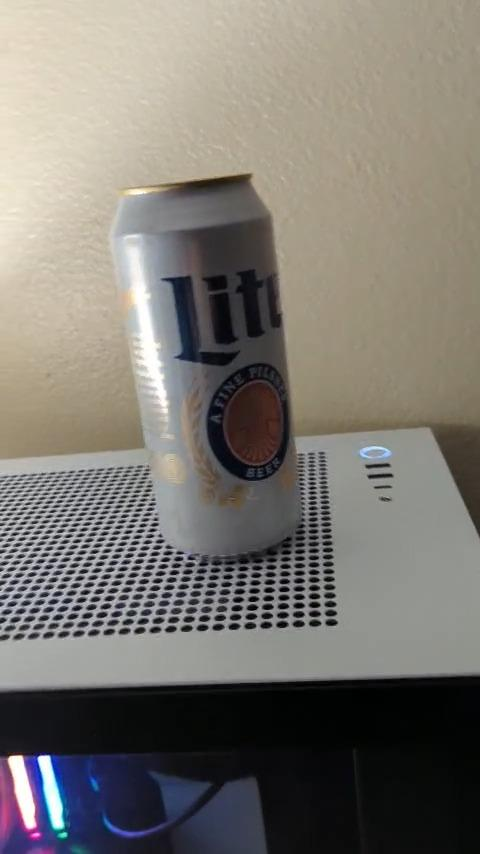metal: (112, 176, 299, 554)
